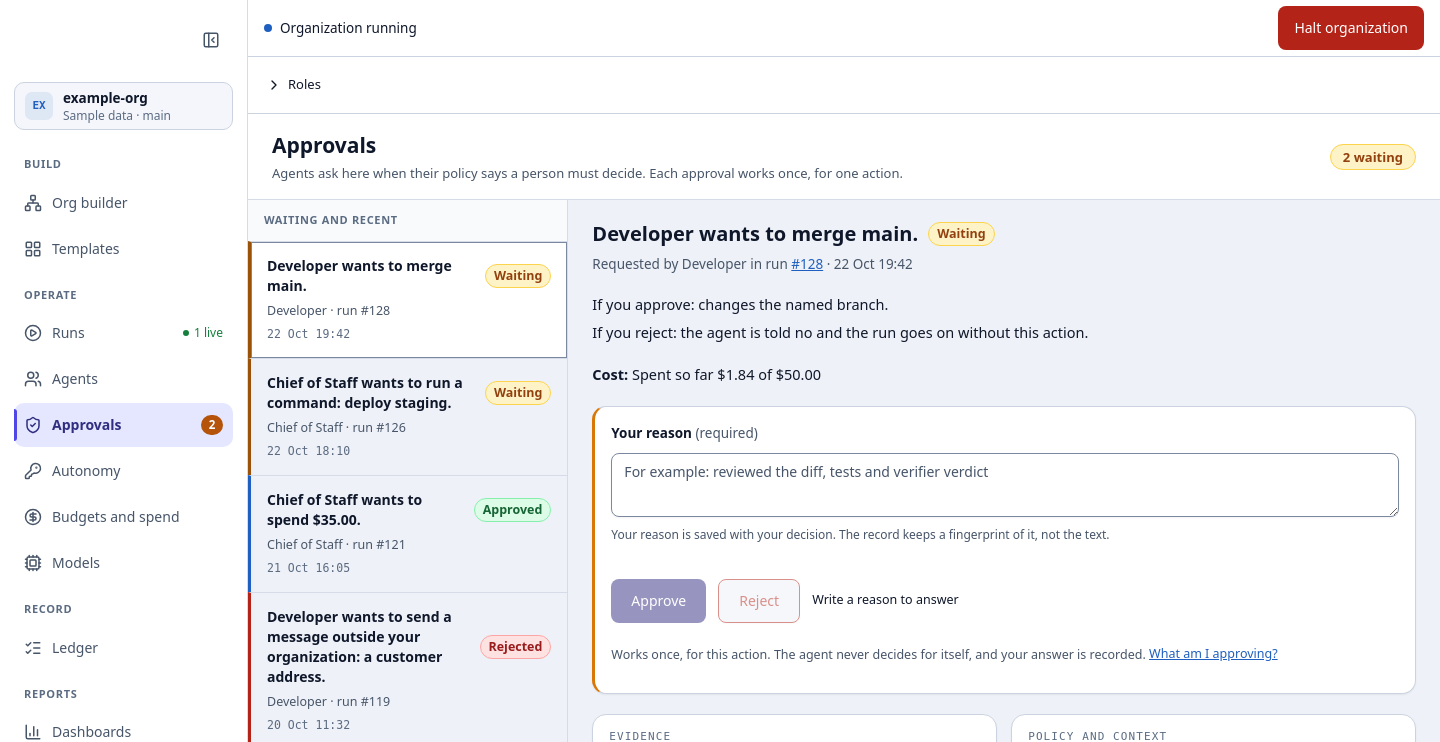
Test: Approvals › approves once with a reason, then the request is read-only and links its ledger entry
Type "Checked the diff and the verifier verdict" into the text box labelled "Your reason (required)" at coordinates (1005, 485), box [611,453,1399,517]
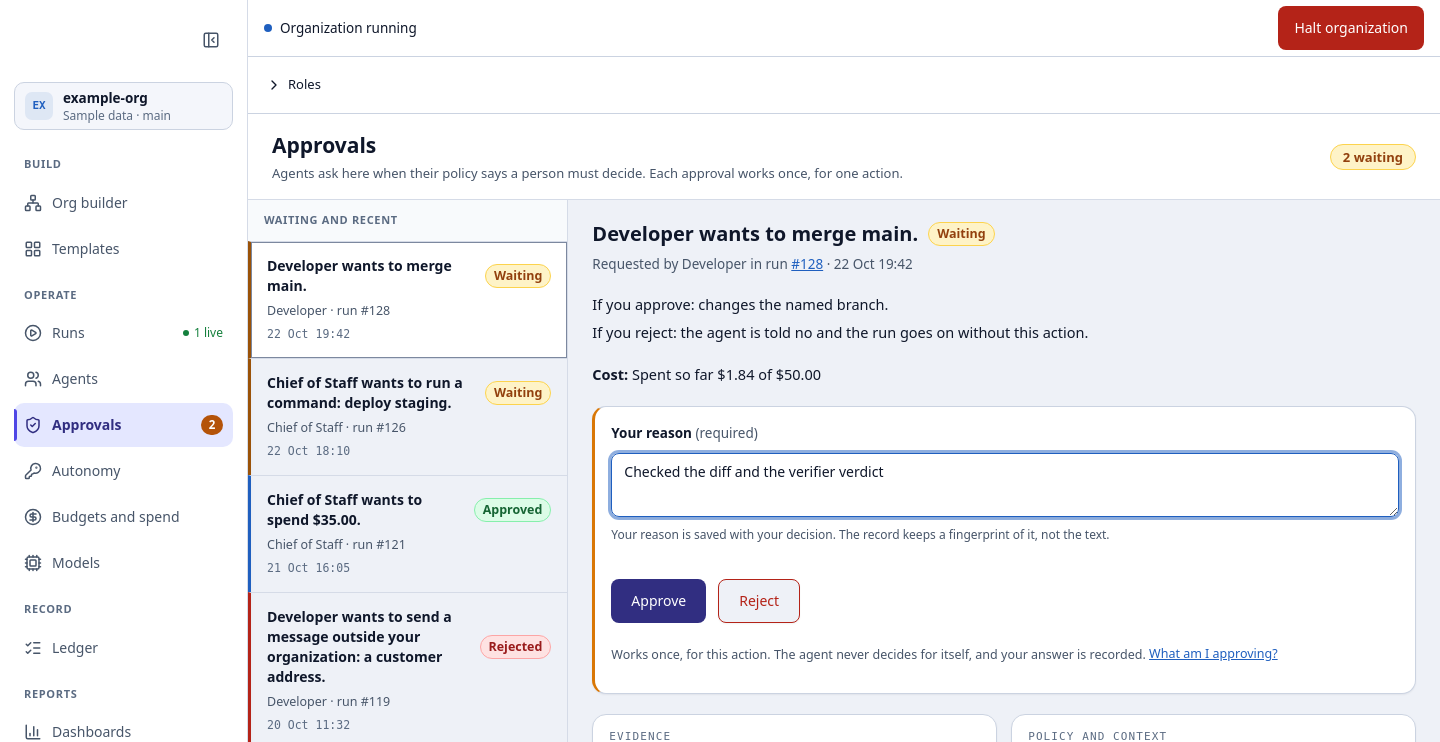
Click the button "Approve" at coordinates (659, 601), box [611,579,706,623]
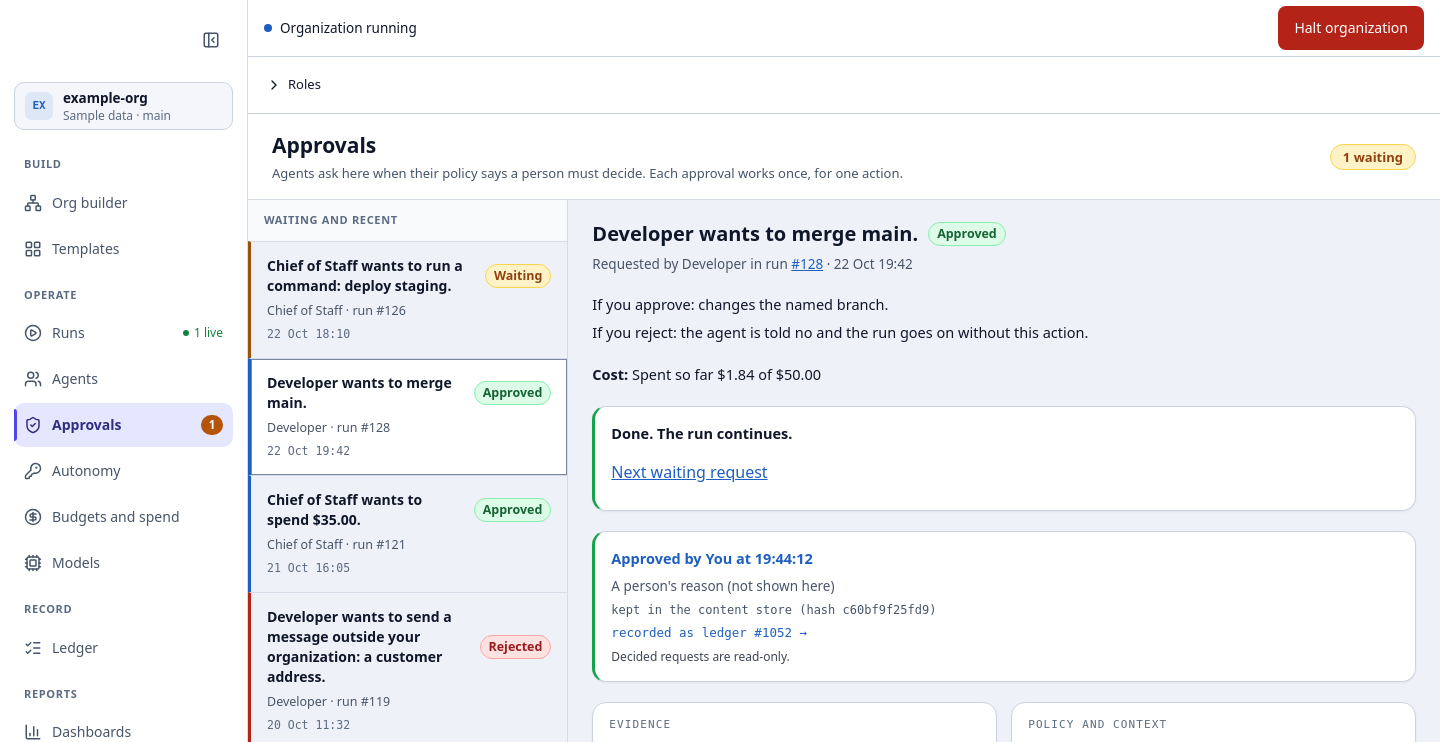
Expected: the text "Approved by You at 19:44:12" is shown, [611,548,813,568]
Expected: the text "A person's reason (not shown here)" is shown, [611,577,834,595]
Expected: the label "Your reason" is gone
